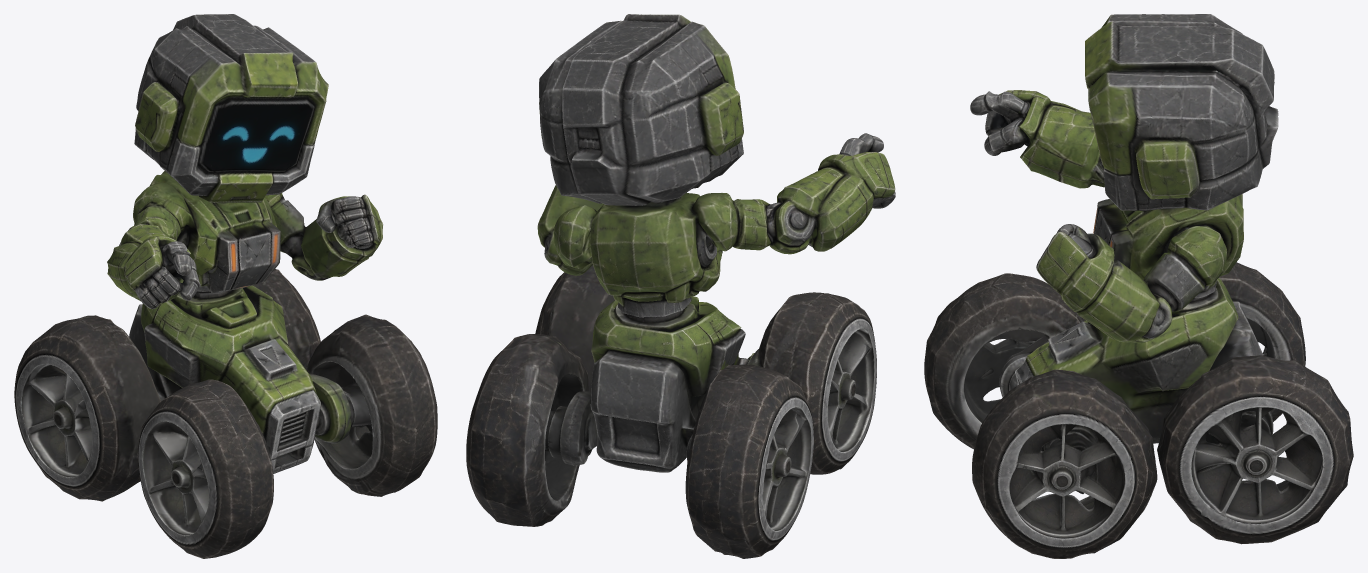
Rendered from hoverbot_wheels.glb.
The picture shows the model from 3 angles, left to right: view 1: azimuth 30°, elevation 25°; view 2: azimuth 150°, elevation 25°; view 3: azimuth 270°, elevation 25°; orthographic projection. The views are drawn at different scales.
Size of the model in its own units: 44192 by 62227 by 51281.
1 material, 1 textured.
